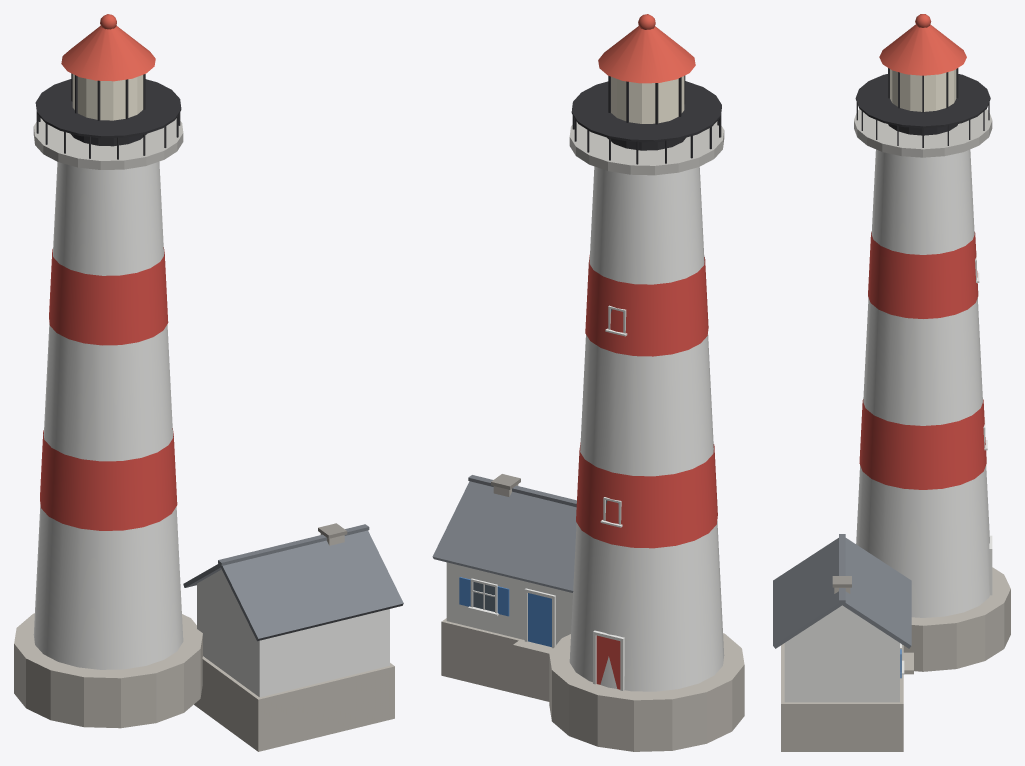
The model's file is lighthouse.glb.
The picture shows the model from 3 angles, left to right: view 1: azimuth 30°, elevation 25°; view 2: azimuth 150°, elevation 25°; view 3: azimuth 270°, elevation 25°; orthographic projection. The views are drawn at different scales.
Visible parts, largest first — view 1: lighthouse; view 2: lighthouse; view 3: lighthouse.
Boxes of the visible parts, <box> form: lighthouse: <box>14,14,403,751</box>; lighthouse: <box>432,14,744,751</box>; lighthouse: <box>773,14,1010,751</box>.
Bounding box in the file's own units: 13.7 × 30.75 × 10.3.
